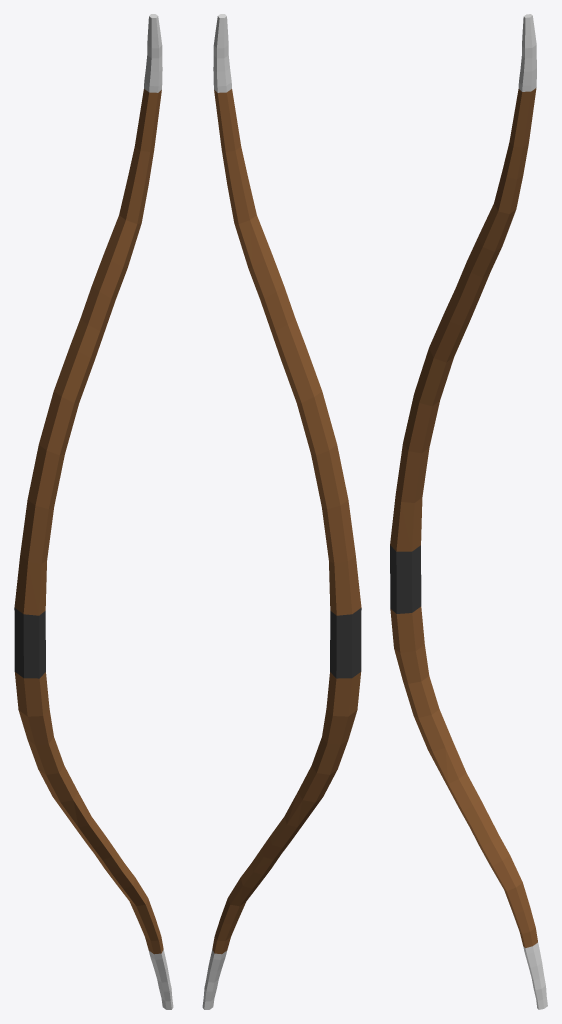
Rendered from Asian_Prop_Weapon_Kyudo_Bow_01.FBX.
3 renders of one model, left to right at view 1: azimuth 30°, elevation 25°; view 2: azimuth 150°, elevation 25°; view 3: azimuth 330°, elevation 25°, orthographic.
Parts seen in each view (by area): view 1: Asian_Prop_Weapon_Kyudo_Bow_01; view 2: Asian_Prop_Weapon_Kyudo_Bow_01; view 3: Asian_Prop_Weapon_Kyudo_Bow_01.
Boxes of the visible parts, <box> form: Asian_Prop_Weapon_Kyudo_Bow_01: <box>14,14,173,1009</box>; Asian_Prop_Weapon_Kyudo_Bow_01: <box>202,14,361,1009</box>; Asian_Prop_Weapon_Kyudo_Bow_01: <box>390,14,547,1009</box>.
Bounding box in the file's own units: 391 × 2438 × 81.3.
